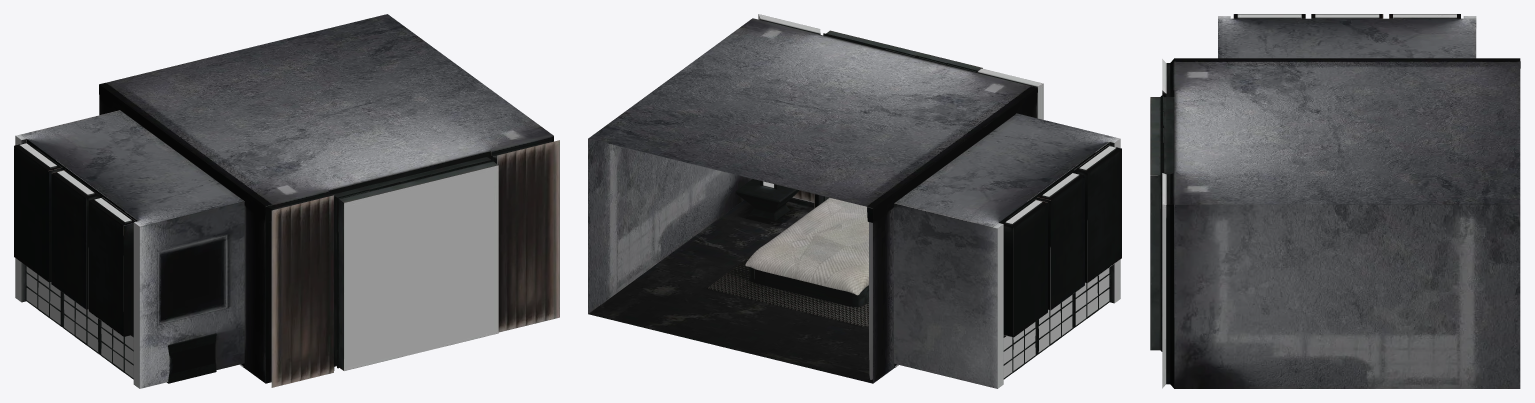
The model's file is room-bedroom-modern-2.glb.
3 renders of one model, left to right at view 1: azimuth 30°, elevation 25°; view 2: azimuth 150°, elevation 25°; view 3: azimuth 270°, elevation 25°, orthographic. The views are drawn at different scales.
Parts seen in each view (by area): view 1: ModernBedroom_Structure_0, ModernBedroom_Meshes_0, ModernBedroom_Chair_0; view 2: ModernBedroom_Structure_0, ModernBedroom_Duvet_0, ModernBedroom_Carpet_0, ModernBedroom_Meshes_0, ModernBedroom_BedFrame_0, ModernBedroom_EndTables_0; view 3: ModernBedroom_Structure_0, ModernBedroom_Meshes_0.
Boxes of the visible parts, x1=… form: ModernBedroom_Structure_0: x1=14, y1=14, x2=559, y2=388; ModernBedroom_Meshes_0: x1=25, y1=159, x2=494, y2=379; ModernBedroom_Chair_0: x1=167, y1=333, x2=216, y2=383; ModernBedroom_Structure_0: x1=588, y1=14, x2=1121, y2=388; ModernBedroom_Duvet_0: x1=745, y1=197, x2=868, y2=295; ModernBedroom_Carpet_0: x1=707, y1=255, x2=868, y2=327; ModernBedroom_Meshes_0: x1=823, y1=33, x2=1110, y2=379; ModernBedroom_BedFrame_0: x1=750, y1=267, x2=868, y2=307; ModernBedroom_EndTables_0: x1=735, y1=179, x2=799, y2=220; ModernBedroom_Structure_0: x1=1150, y1=14, x2=1520, y2=388; ModernBedroom_Meshes_0: x1=1160, y1=95, x2=1163, y2=351.
Bounding box in the file's own units: 4.5 × 1.91 × 3.45.
Materials: 10 (10 with a texture image).
